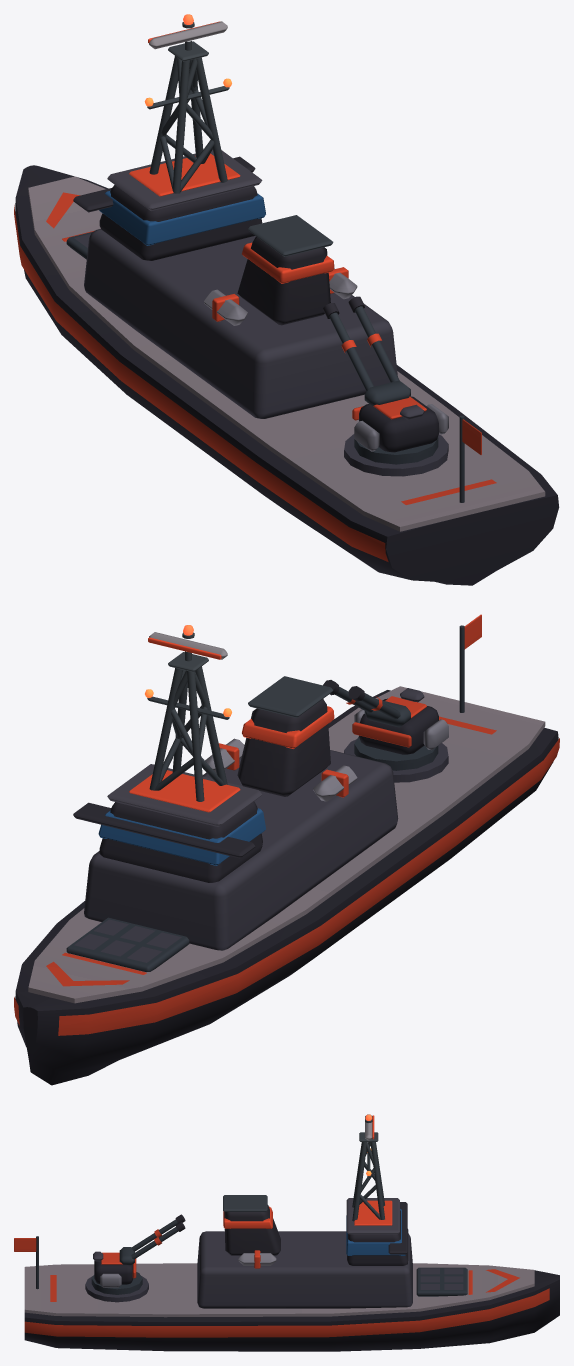
File: frigate.glb
3 renders of one model, top to bottom at view 1: azimuth 30°, elevation 25°; view 2: azimuth 150°, elevation 25°; view 3: azimuth 270°, elevation 25°, orthographic. The views are drawn at different scales.
Parts seen in each view (by area): view 1: frigate Ashen charcoal, frigate Ashen slate, frigate Bunker concrete, frigate Ember paint, frigate Gunmetal, frigate Tinted glass, frigate Turret Gunmetal, frigate Turret Ashen charcoal, frigate Ash grey, frigate Turret Ember paint, frigate Turret Ash grey; view 2: frigate Ashen charcoal, frigate Ashen slate, frigate Bunker concrete, frigate Ember paint, frigate Gunmetal, frigate Tinted glass, frigate Turret Gunmetal, frigate Turret Ashen charcoal, frigate Ash grey, frigate Turret Ember paint, frigate Turret Ash grey; view 3: frigate Ashen charcoal, frigate Ashen slate, frigate Bunker concrete, frigate Ember paint, frigate Gunmetal, frigate Turret Gunmetal, frigate Tinted glass, frigate Turret Ashen charcoal, frigate Ash grey, frigate Turret Ember paint, frigate Turret Ash grey.
Boxes of the visible parts, x1,y1,x2,y2 form: frigate Ashen charcoal: [15, 156, 559, 585]; frigate Ashen slate: [74, 149, 448, 476]; frigate Bunker concrete: [28, 176, 545, 531]; frigate Ember paint: [14, 21, 496, 561]; frigate Gunmetal: [66, 22, 464, 502]; frigate Tinted glass: [99, 190, 265, 245]; frigate Turret Gunmetal: [329, 306, 438, 464]; frigate Turret Ashen charcoal: [323, 296, 438, 452]; frigate Ash grey: [149, 21, 357, 325]; frigate Turret Ember paint: [341, 333, 426, 420]; frigate Turret Ash grey: [354, 404, 448, 451]; frigate Ashen charcoal: [15, 690, 558, 1085]; frigate Ashen slate: [74, 739, 448, 962]; frigate Bunker concrete: [28, 686, 545, 1003]; frigate Ember paint: [14, 614, 559, 1035]; frigate Gunmetal: [66, 625, 464, 971]; frigate Tinted glass: [98, 808, 265, 865]; frigate Turret Gunmetal: [335, 687, 438, 770]; frigate Turret Ashen charcoal: [323, 680, 438, 754]; frigate Ash grey: [149, 632, 357, 801]; frigate Turret Ember paint: [346, 696, 426, 747]; frigate Turret Ash grey: [354, 709, 448, 750]; frigate Ashen charcoal: [24, 1202, 559, 1351]; frigate Ashen slate: [85, 1198, 463, 1308]; frigate Bunker concrete: [24, 1263, 534, 1317]; frigate Ember paint: [14, 1115, 549, 1337]; frigate Gunmetal: [36, 1119, 467, 1296]; frigate Turret Gunmetal: [91, 1219, 178, 1294]; frigate Tinted glass: [346, 1209, 405, 1255]; frigate Turret Ashen charcoal: [94, 1214, 185, 1284]; frigate Ash grey: [238, 1114, 372, 1265]; frigate Turret Ember paint: [101, 1229, 161, 1278]; frigate Turret Ash grey: [100, 1273, 121, 1287].
Size of the model in its own units: 2.23 by 4.11 by 8.57.
Materials: 9 (6 with a texture image).
